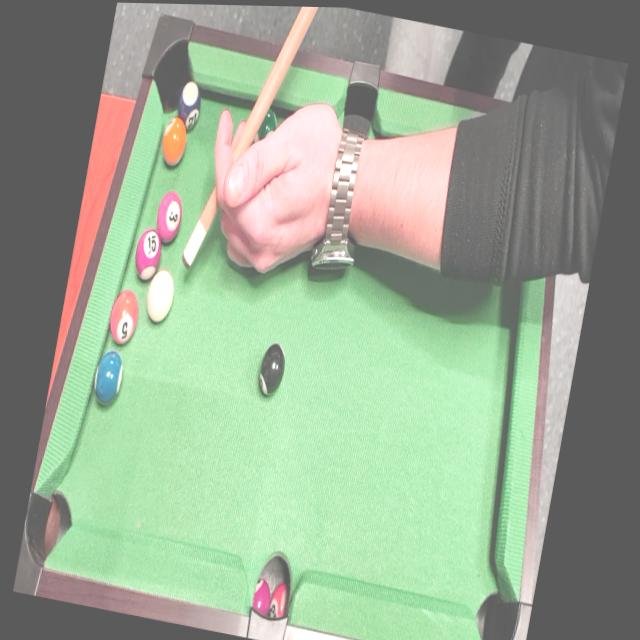cue ball: (140, 264, 178, 325)
other: (104, 280, 144, 348), (88, 342, 128, 408), (254, 335, 288, 407), (156, 113, 191, 174), (172, 75, 206, 137), (152, 187, 186, 248), (131, 224, 165, 281)
